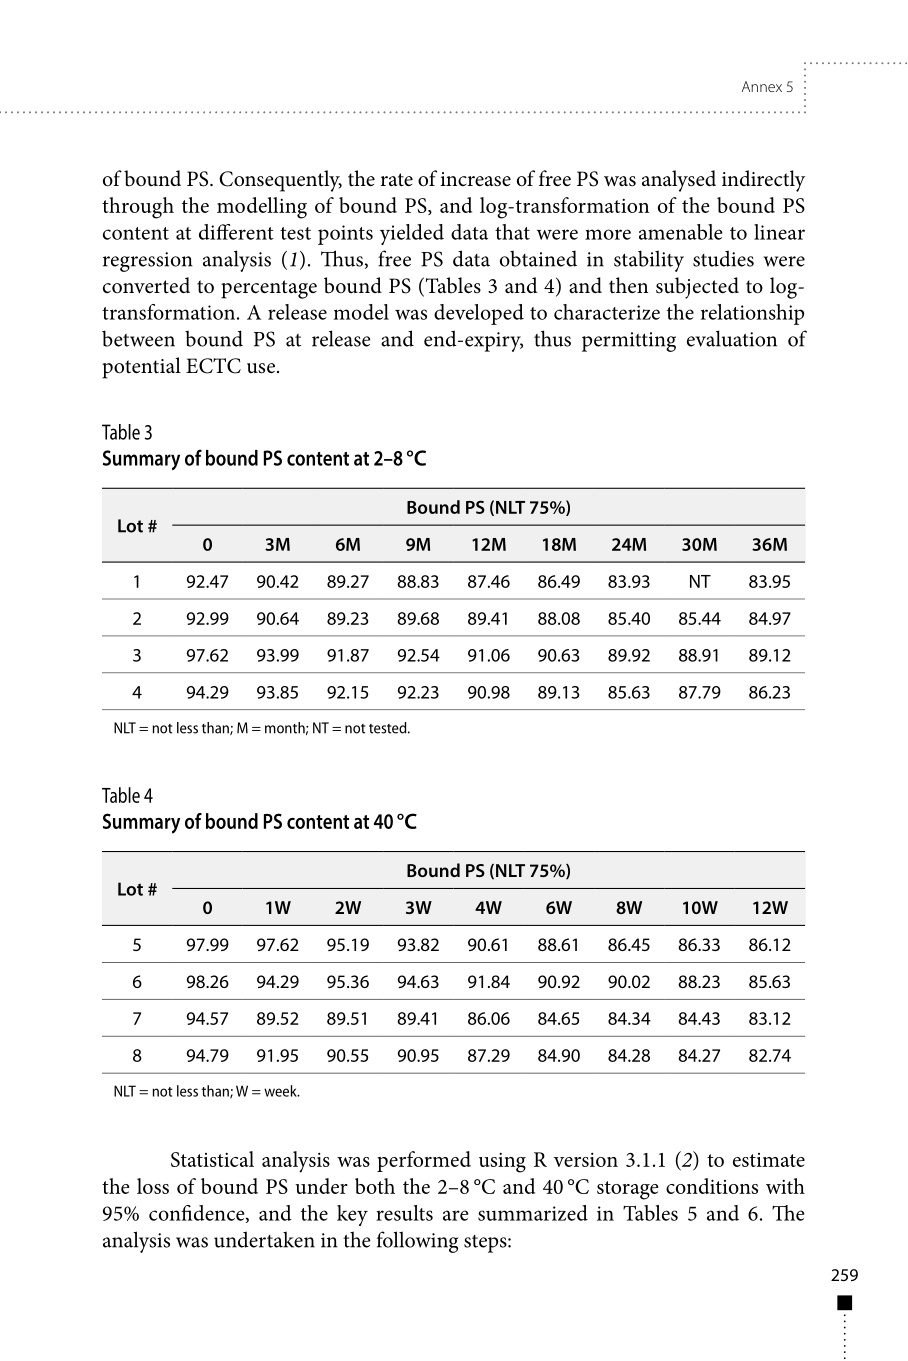partial_lined_merged_cells: (100, 849, 806, 1076), (100, 486, 806, 711)
